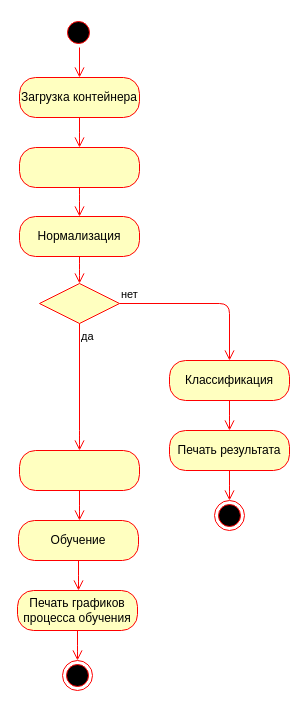
Image size: 307x708. Some labels were removed from this diagram. The box of each missing label's shape, as (x1, y1, x2, y2) in pixels:
ВЧ-фильтрация: (18, 146, 140, 188)
Обучение?: (38, 282, 120, 324)
Перемешивание выборки: (18, 450, 140, 490)
